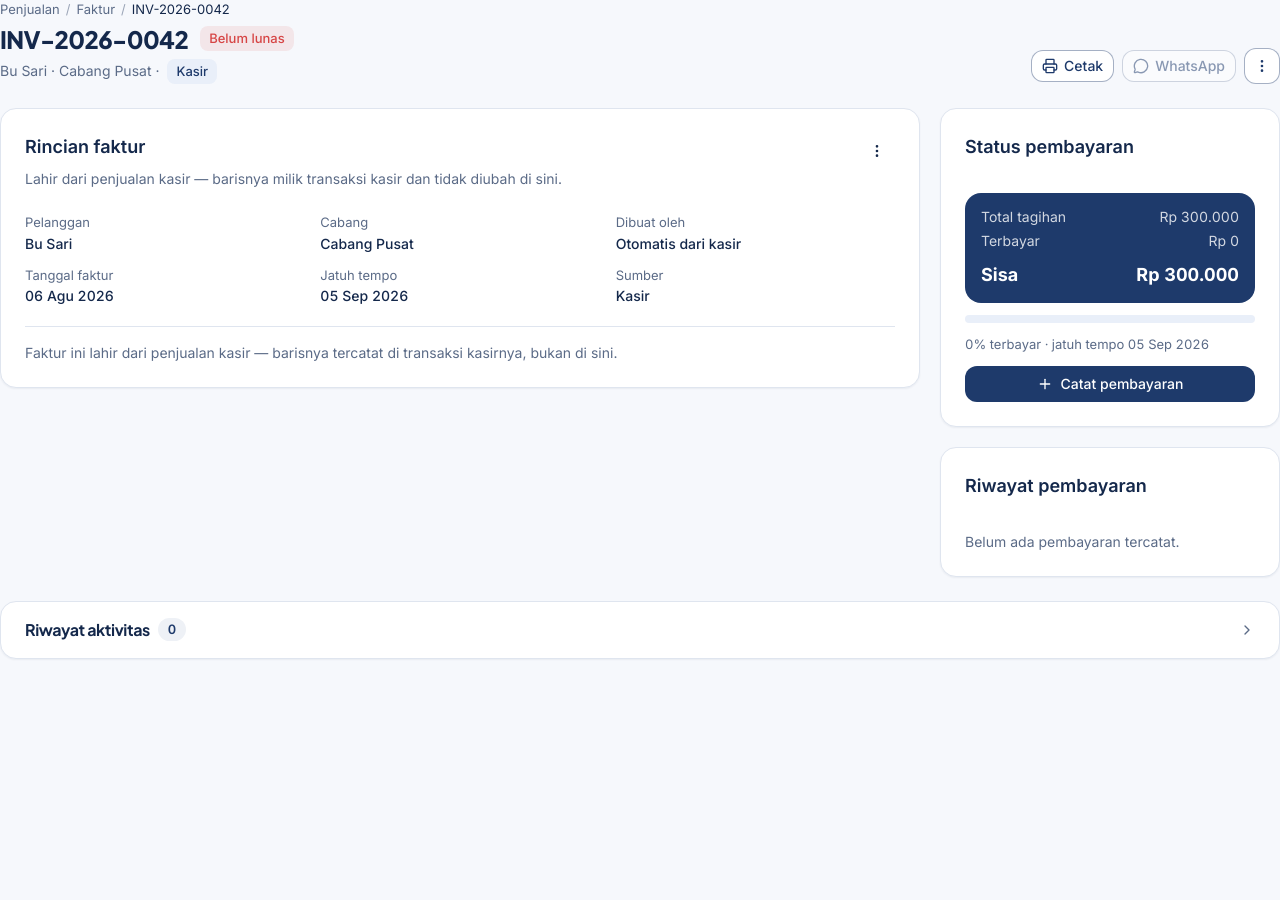
Test: InvoiceDetail › says where to add one when the chart has no Kas & Bank account
Click the button "Catat pembayaran" at {"x": 1110, "y": 384}, box [965,366,1255,402]
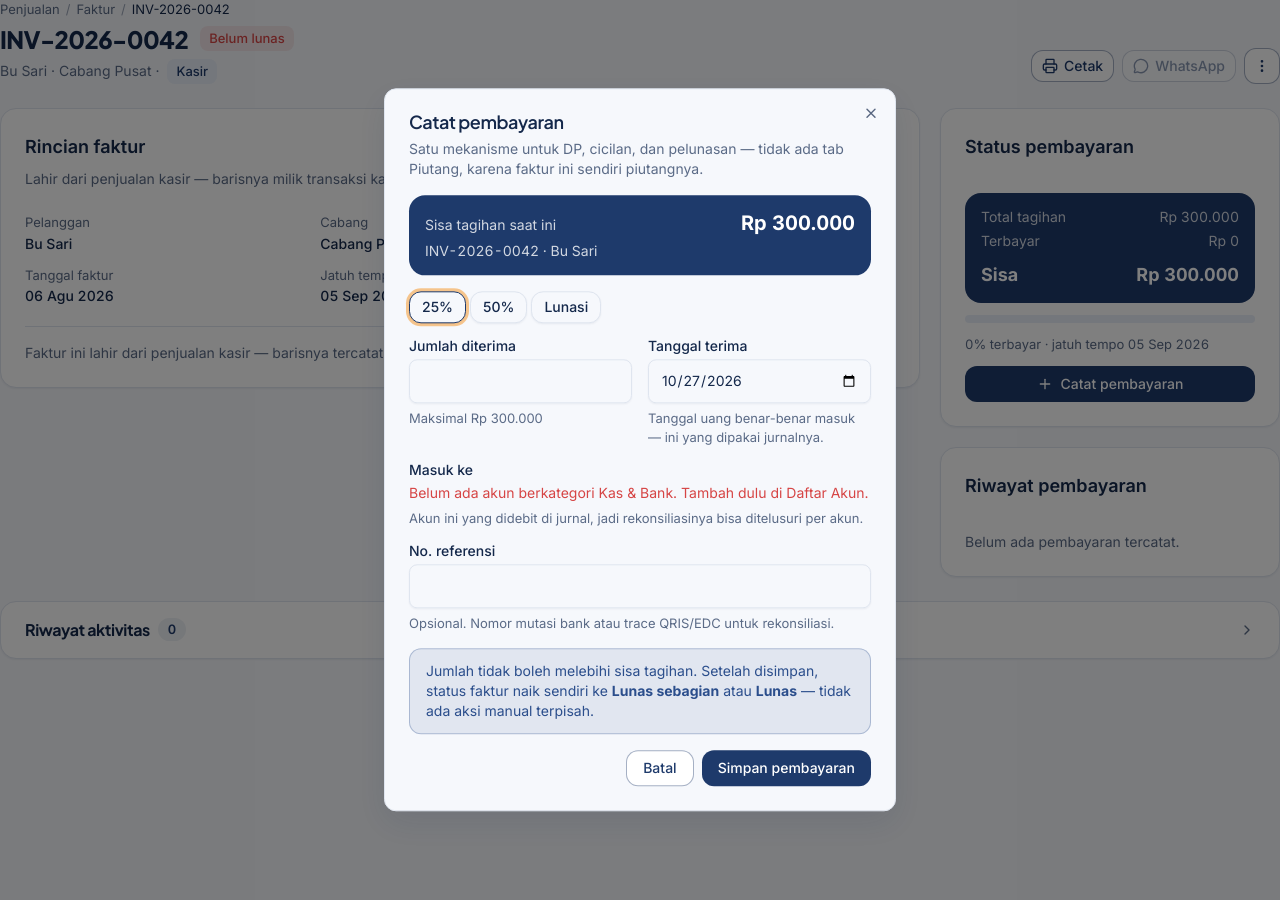
Now the text "Belum ada akun berkategori Kas & Bank" is shown, box [409,484,869,501]
